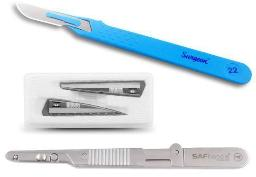scalpel: (16, 3, 252, 86)
